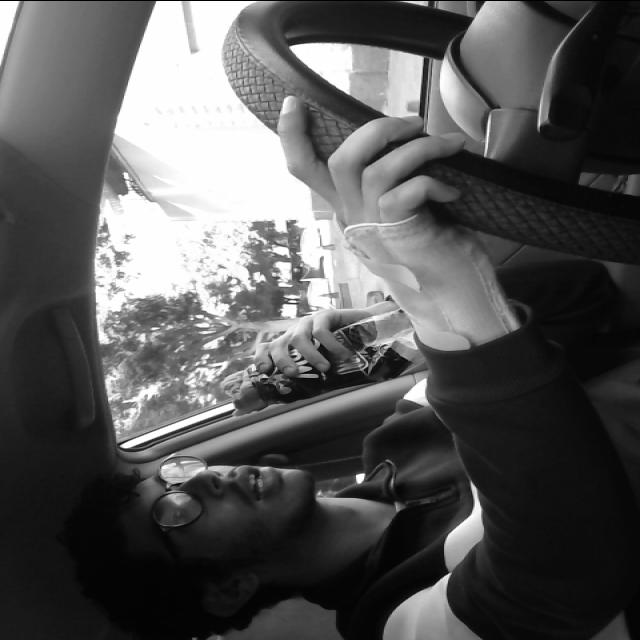eating: (208, 288, 472, 426)
